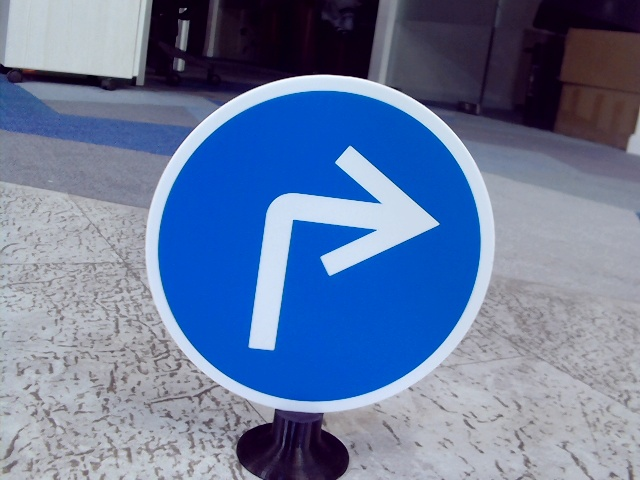turn_right: (242, 141, 440, 358)
